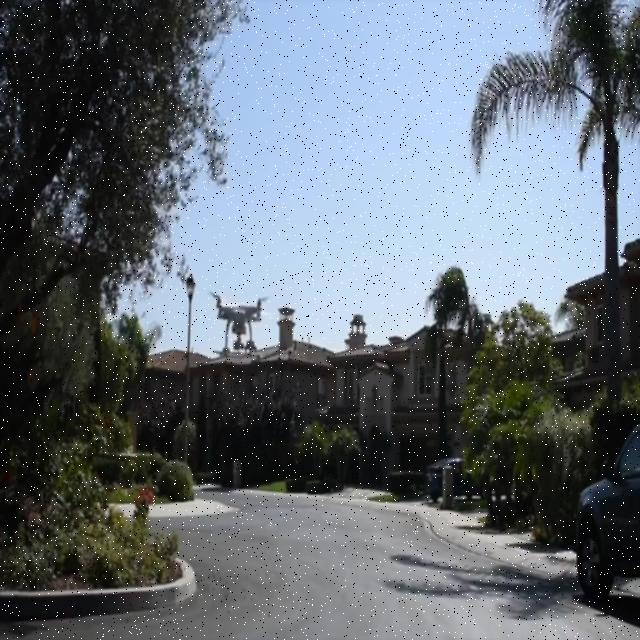UAV: (208, 291, 268, 359)
